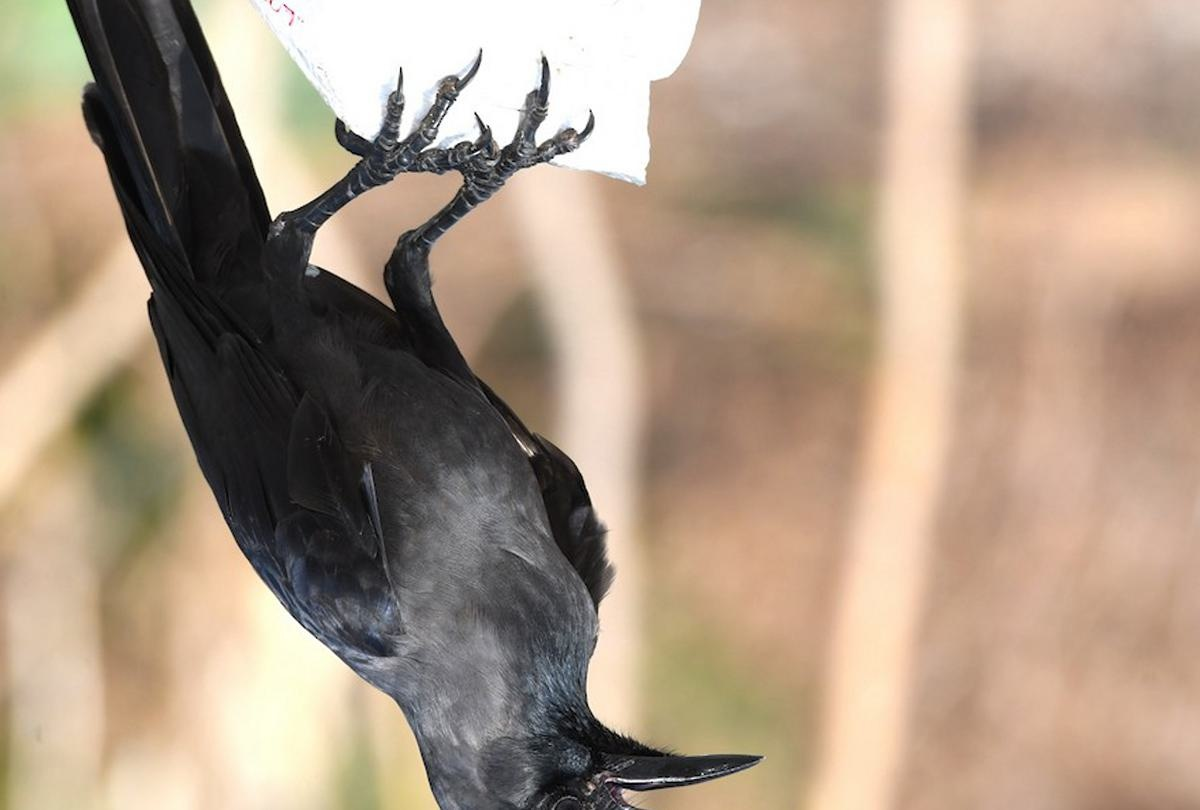crow: (65, 1, 768, 808)
